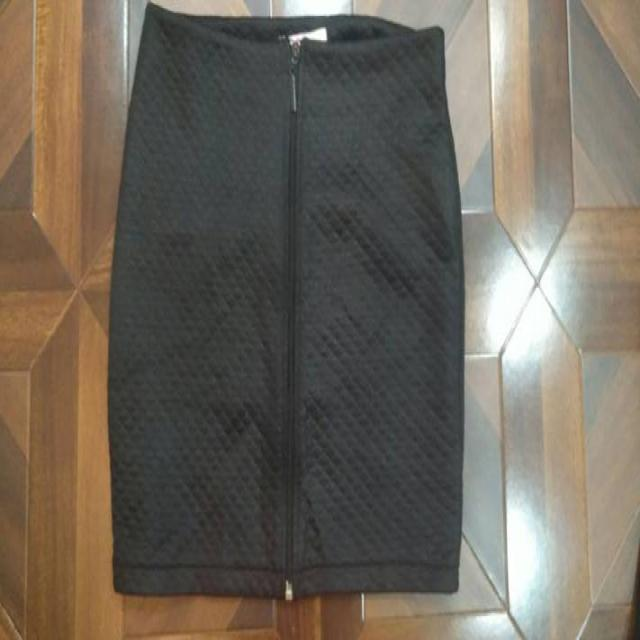Clothes -Biodegradable-: (107, 1, 463, 599)
